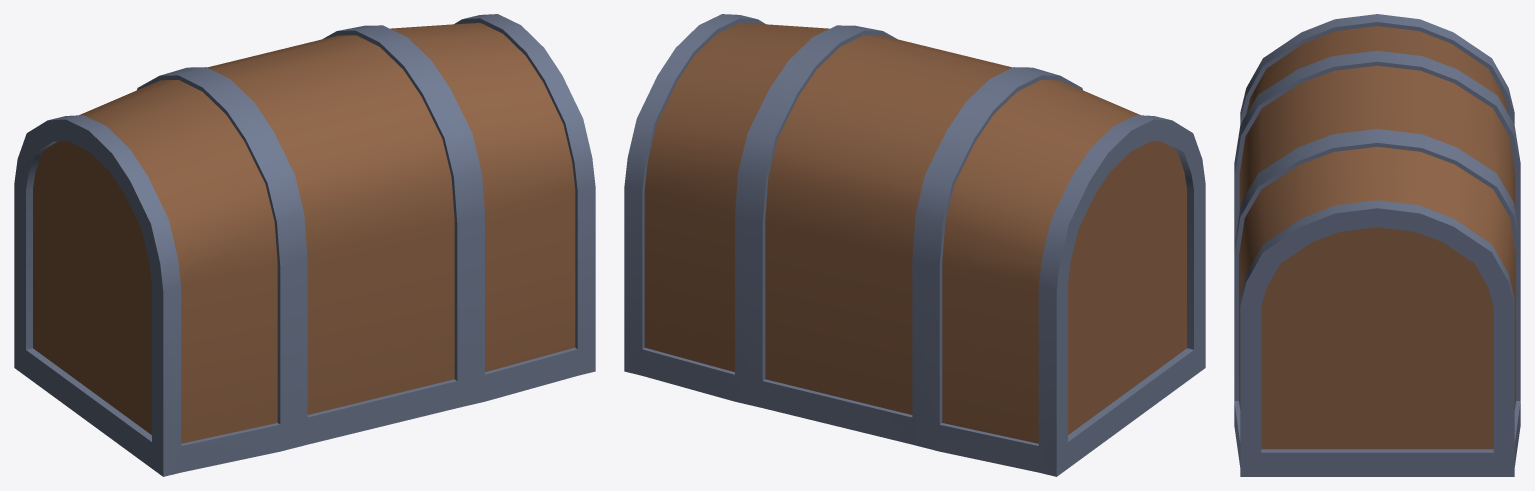
Rendered from Trunk.fbx.
3 views of the same model, side by side, from view 1: azimuth 30°, elevation 25°; view 2: azimuth 150°, elevation 25°; view 3: azimuth 270°, elevation 25° (orthographic). The views are drawn at different scales.
Visible parts, largest first — view 1: Trunk; view 2: Trunk; view 3: Trunk.
Boxes of the visible parts, x1,y1,x2,y2 form: Trunk: [14, 14, 595, 476]; Trunk: [624, 14, 1205, 476]; Trunk: [1234, 14, 1520, 476].
Bounding box in the file's own units: 123 × 83.81 × 76.43.
